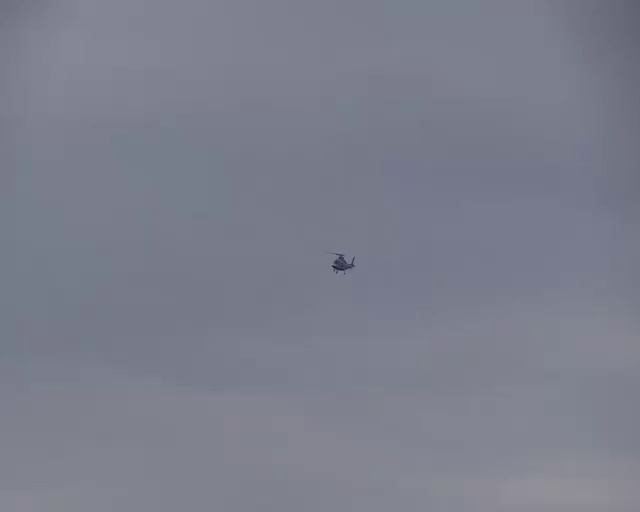HELICOPTER: (327, 251, 356, 274)
